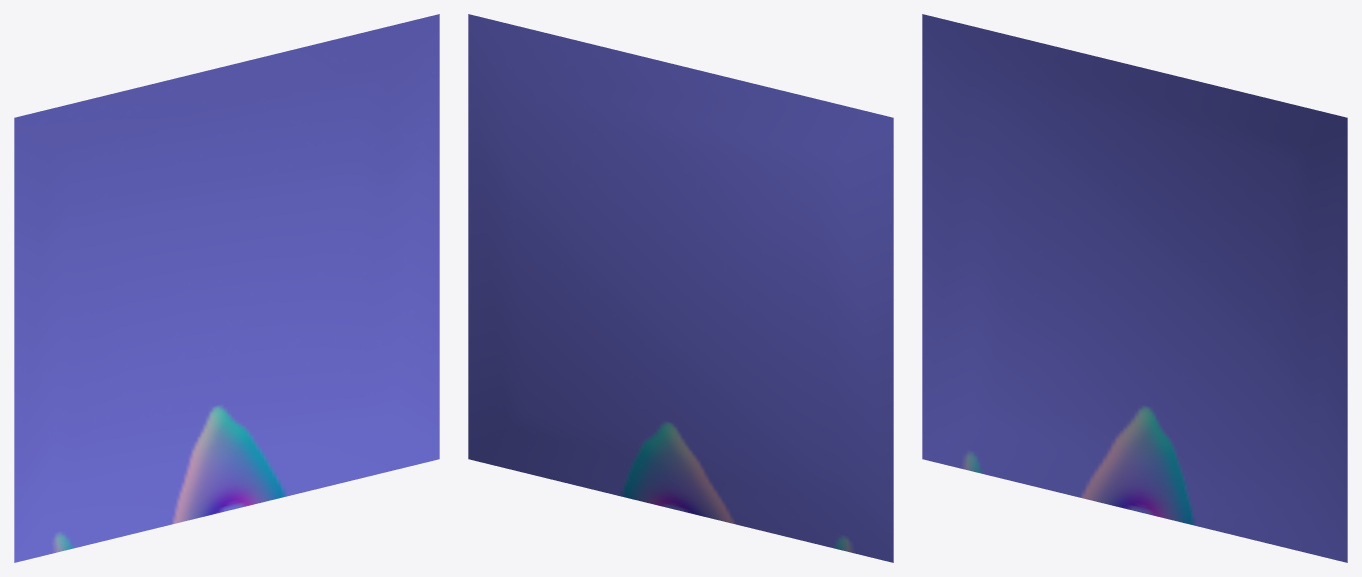
File: p_mesh_lavaball_liquidsplash03_plane01.fbx
The picture shows the model from 3 angles, left to right: view 1: azimuth 30°, elevation 25°; view 2: azimuth 150°, elevation 25°; view 3: azimuth 330°, elevation 25°; orthographic projection.
Visible parts, largest first — view 1: Plane; view 2: Plane; view 3: Plane.
Boxes of the visible parts, bbox=[...] form: Plane: bbox=[14, 14, 439, 562]; Plane: bbox=[468, 14, 893, 562]; Plane: bbox=[922, 14, 1347, 562].
Size of the model in its own units: 2 by 2 by 0.1259.
Materials: 1 (1 with a texture image).
